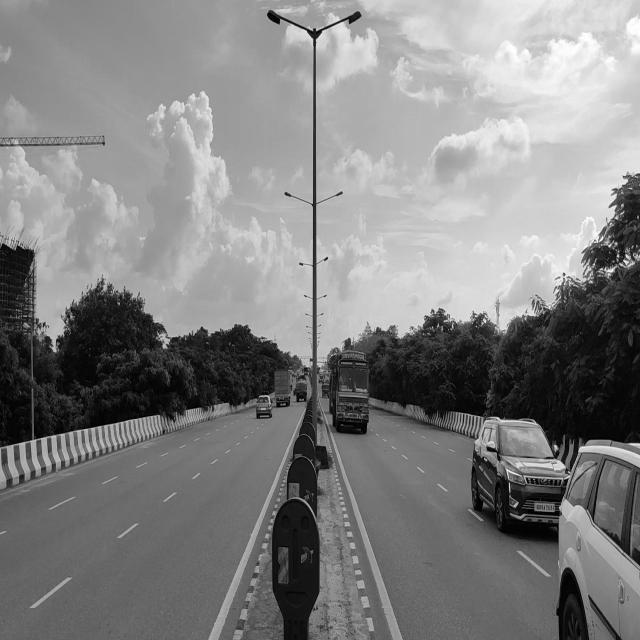car: (542, 385, 640, 640), (461, 381, 581, 551), (244, 384, 289, 434)
truck: (334, 334, 372, 438)
